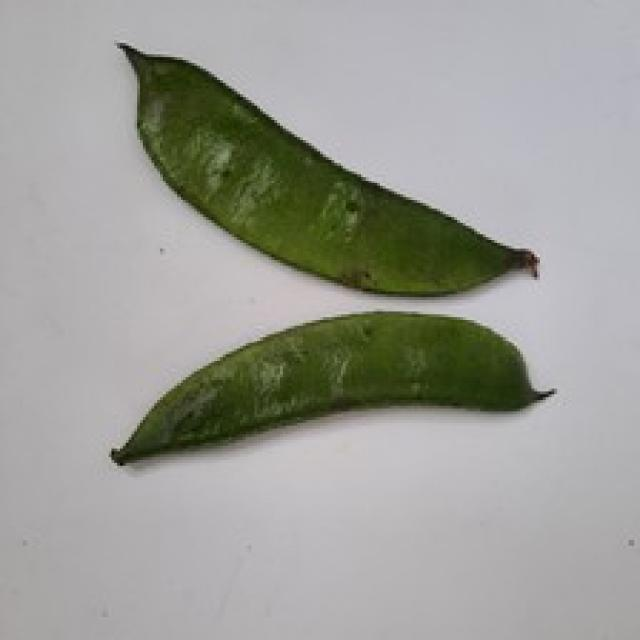Bean: (114, 37, 540, 297), (109, 308, 554, 466)
